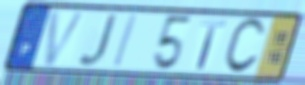5: (149, 15, 196, 72)
C: (221, 16, 267, 77)
I: (110, 13, 140, 70)
J: (77, 13, 120, 69)
T: (196, 18, 228, 71)
V: (41, 9, 89, 68)
